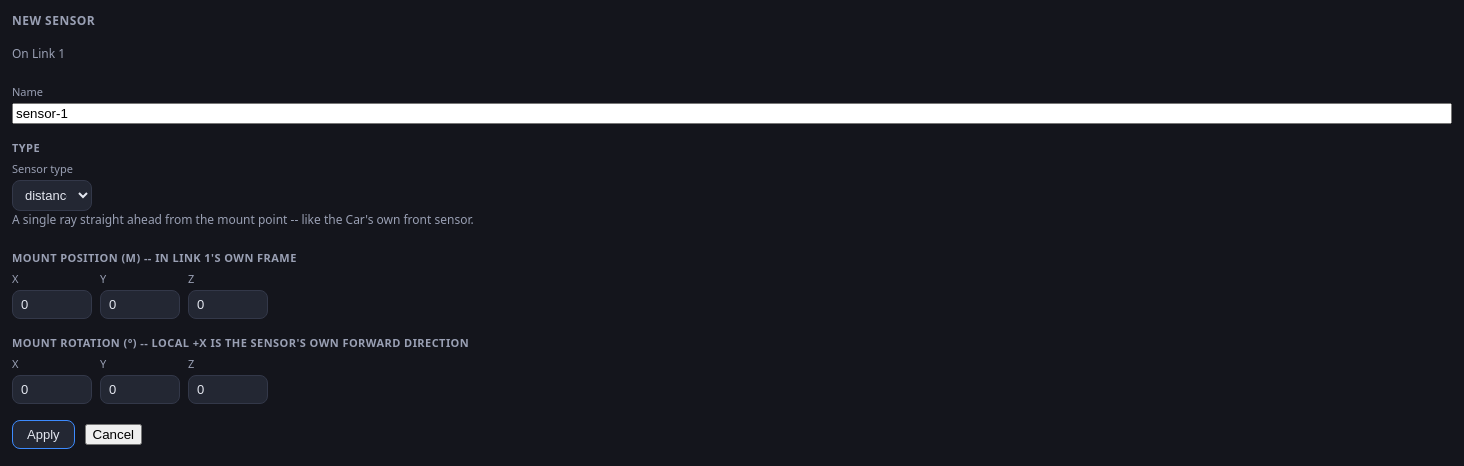
it: SensorCreator › shows a guidance message for encoder when the mount body has no connected joint
The width and height of the screenshot is (1464, 466).
Select "encoder" in the dropdown labelled "Sensor type": (52, 196) [12,180,92,211]
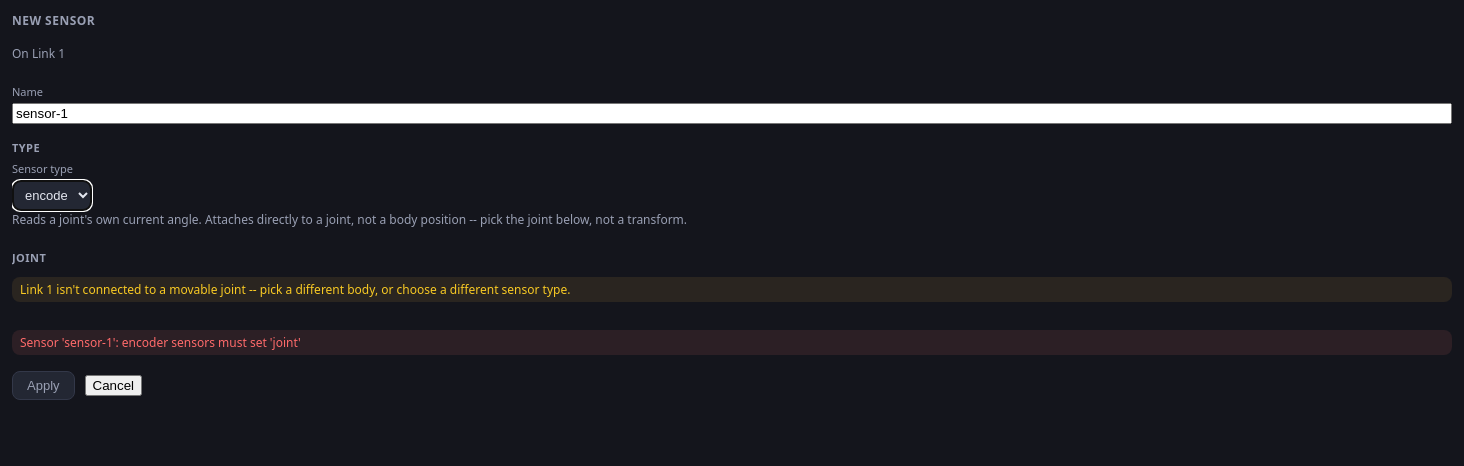
expect the text "isn't connected to a movable joint" is shown: met, box [53,281,570,298]
